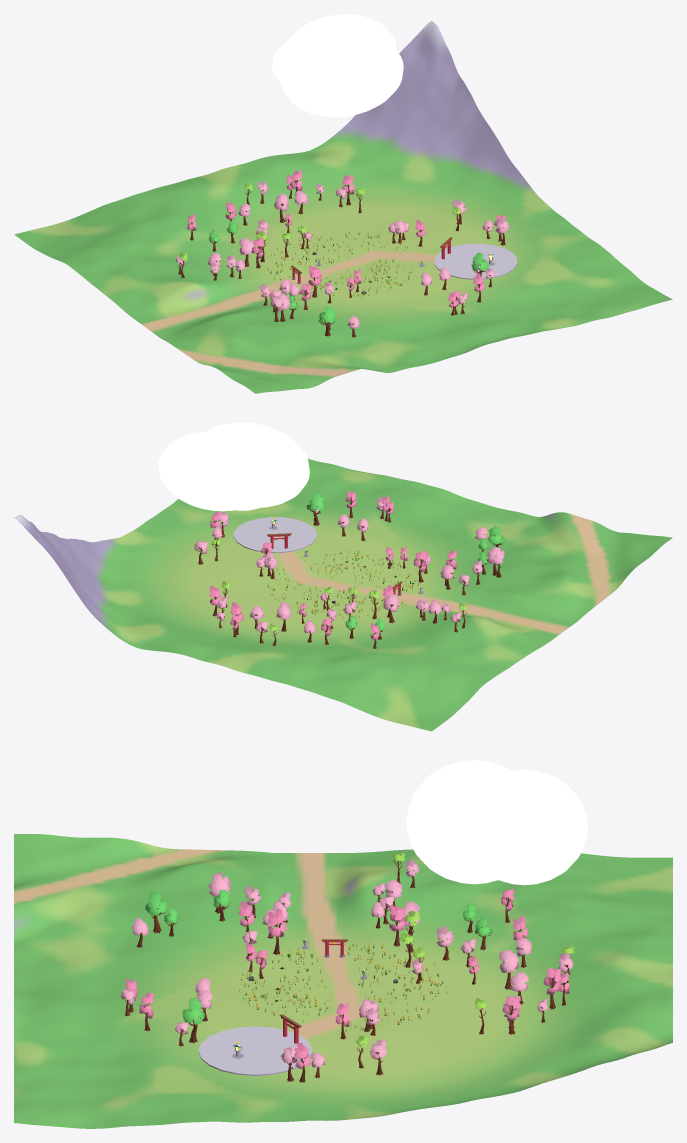
File: act1.glb
3 renders of one model, top to bottom at view 1: azimuth 30°, elevation 25°; view 2: azimuth 150°, elevation 25°; view 3: azimuth 270°, elevation 25°, orthographic. The views are drawn at different scales.
Visible parts, largest first — view 1: Ground, Cloud, Meadow Dais; view 2: Ground, Cloud, Meadow Dais; view 3: Ground, Cloud, Meadow Dais, Tree_Green1.
Boxes of the visible parts, x1=… form: Ground: x1=14, y1=20, x2=672, y2=393; Cloud: x1=272, y1=14, x2=403, y2=117; Meadow Dais: x1=434, y1=243, x2=517, y2=279; Ground: x1=14, y1=458, x2=672, y2=731; Cloud: x1=158, y1=422, x2=309, y2=511; Meadow Dais: x1=233, y1=517, x2=316, y2=553; Ground: x1=14, y1=834, x2=672, y2=1128; Cloud: x1=406, y1=760, x2=587, y2=885; Meadow Dais: x1=198, y1=1026, x2=312, y2=1075; Tree_Green1: x1=182, y1=997, x2=204, y2=1043.
Bounding box in the file's own units: 150 × 64.48 × 150.
Materials: 22 (10 with a texture image).
